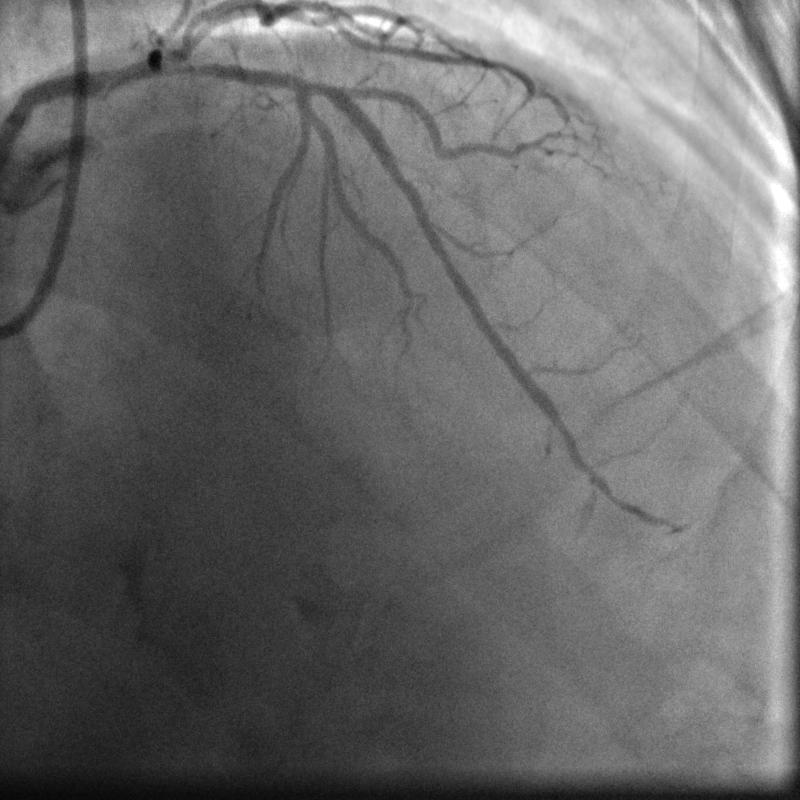Stenosis: (167, 57, 227, 85)
